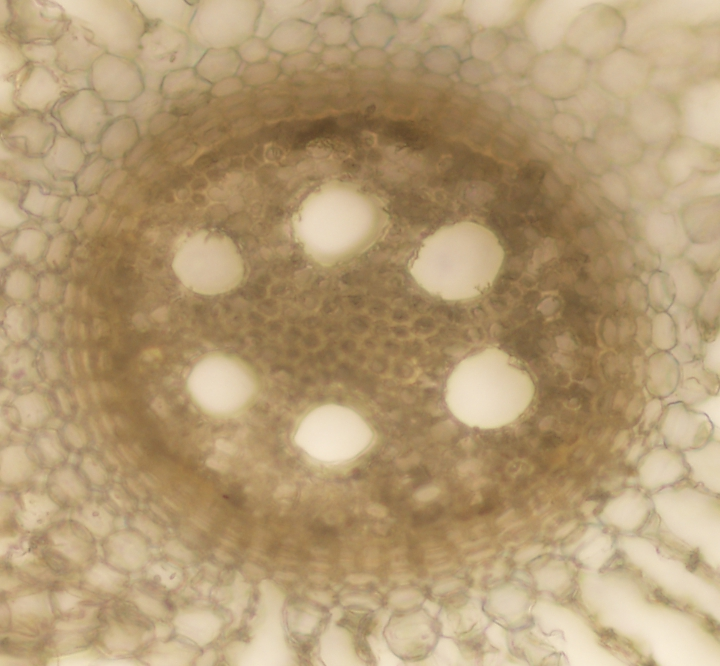lm: (291, 178, 391, 269), (444, 346, 537, 430), (409, 219, 504, 300), (172, 225, 247, 296), (184, 353, 265, 418), (293, 403, 374, 464)
